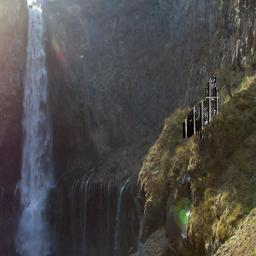Crow: (183, 76, 219, 138)
